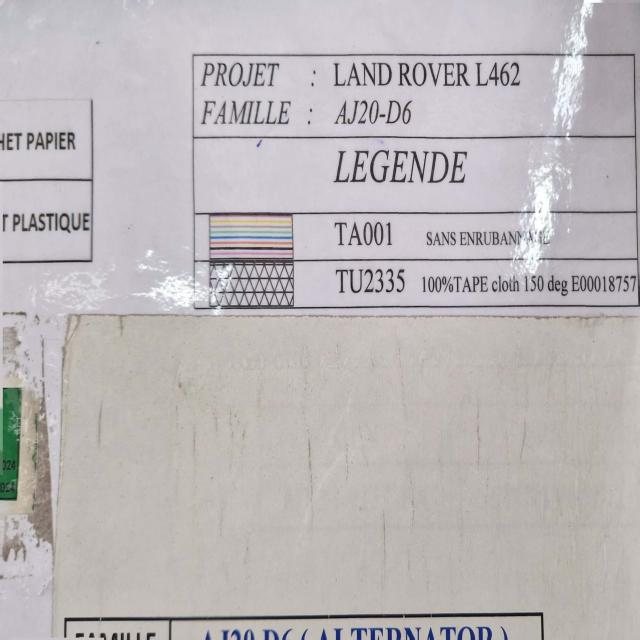Etiquette_Famille_AJ20_D-: (135, 0, 640, 346)
